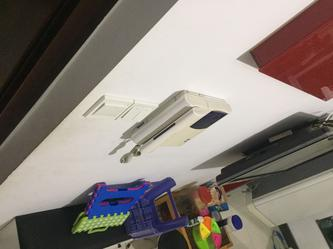switch: (97, 96, 123, 120)
